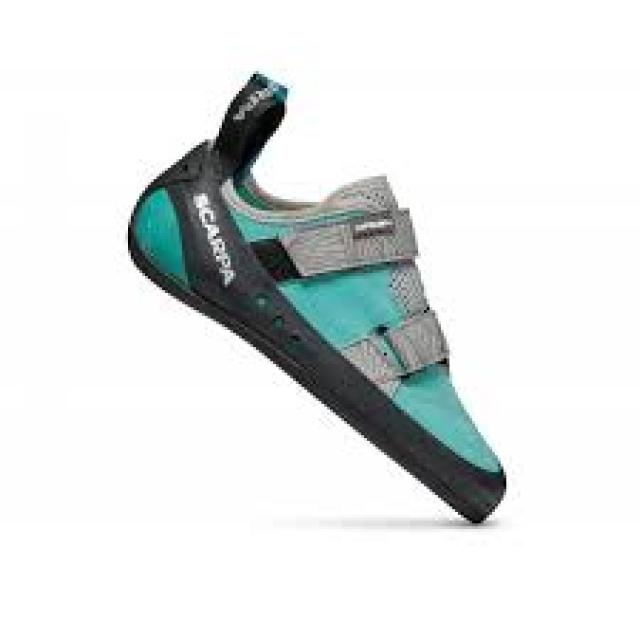climbing-shoes: (126, 72, 511, 526)
